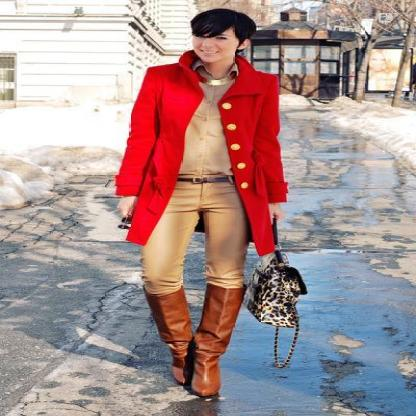bag: (241, 258, 306, 309)
jacket: (115, 50, 287, 255)
pants: (140, 169, 242, 296)
shirt: (179, 80, 235, 174)
shoe: (144, 283, 242, 399)
